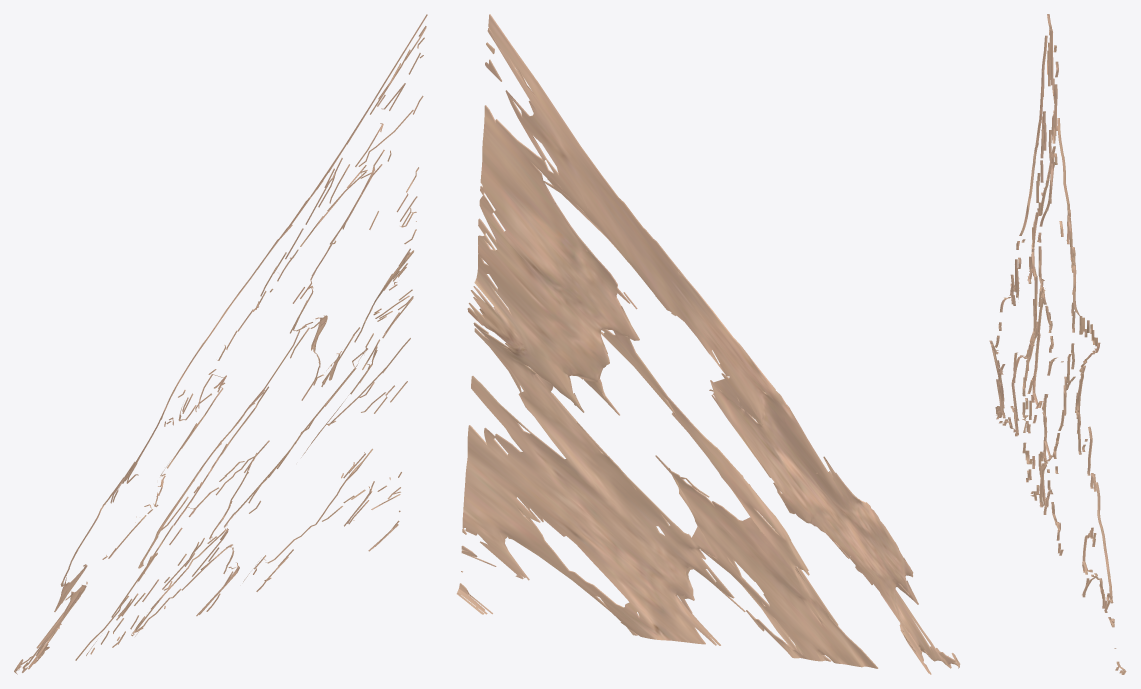
The picture shows the model from 3 angles, left to right: view 1: azimuth 30°, elevation 25°; view 2: azimuth 150°, elevation 25°; view 3: azimuth 270°, elevation 25°; orthographic projection. The views are drawn at different scales.
Bounding box in the file's own units: 15.33 × 18.59 × 3.44.
1 material, 1 textured.
